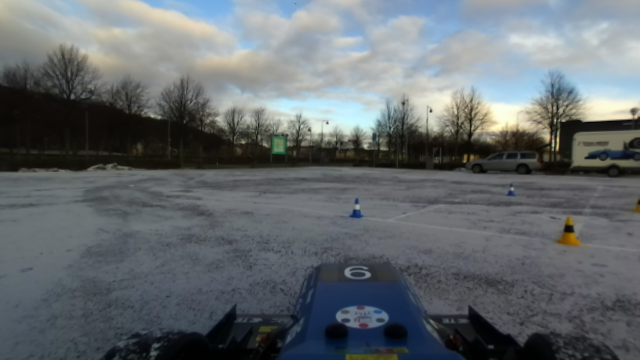blue: (347, 196, 366, 221), (505, 179, 517, 198)
yellow: (554, 214, 585, 249)
